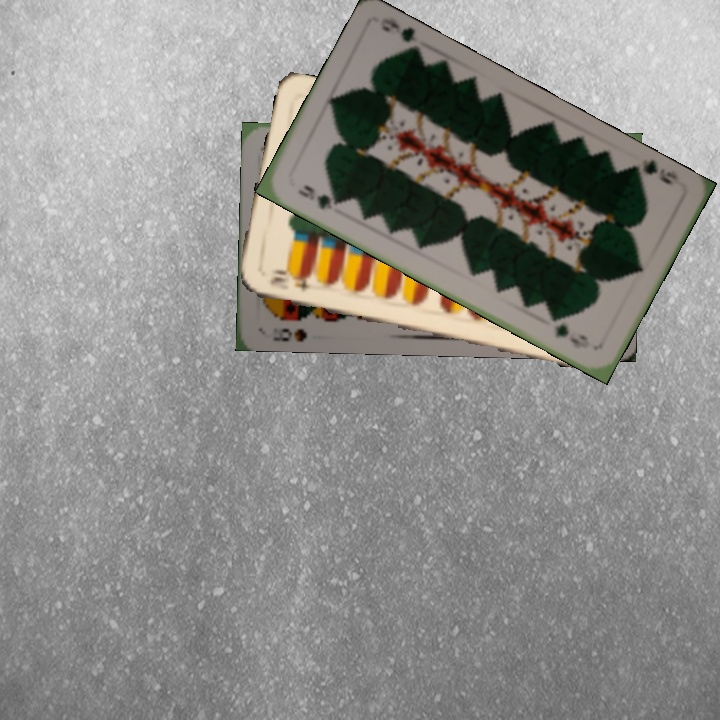E10: (265, 272, 314, 293)
G9: (627, 155, 680, 188), (293, 180, 344, 213)
S8: (269, 324, 310, 344)
